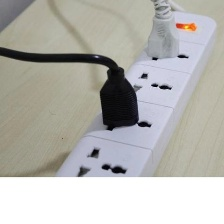three_eye_plug: (49, 7, 220, 181)
